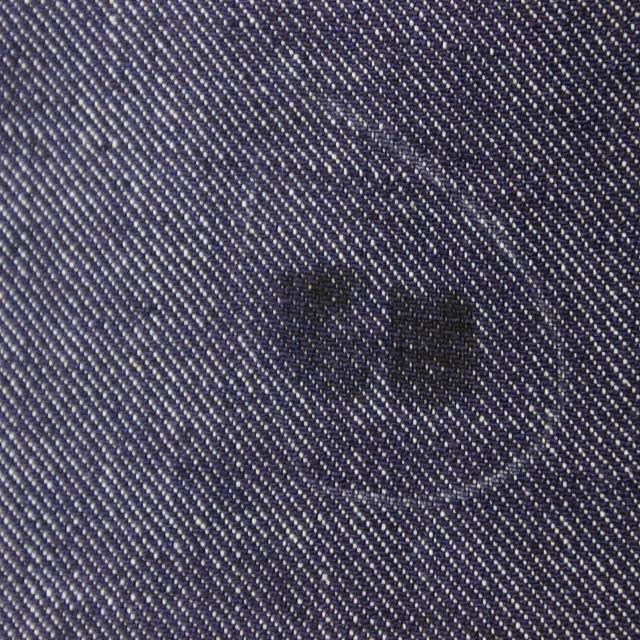stain: (264, 255, 384, 419), (384, 278, 484, 418)
